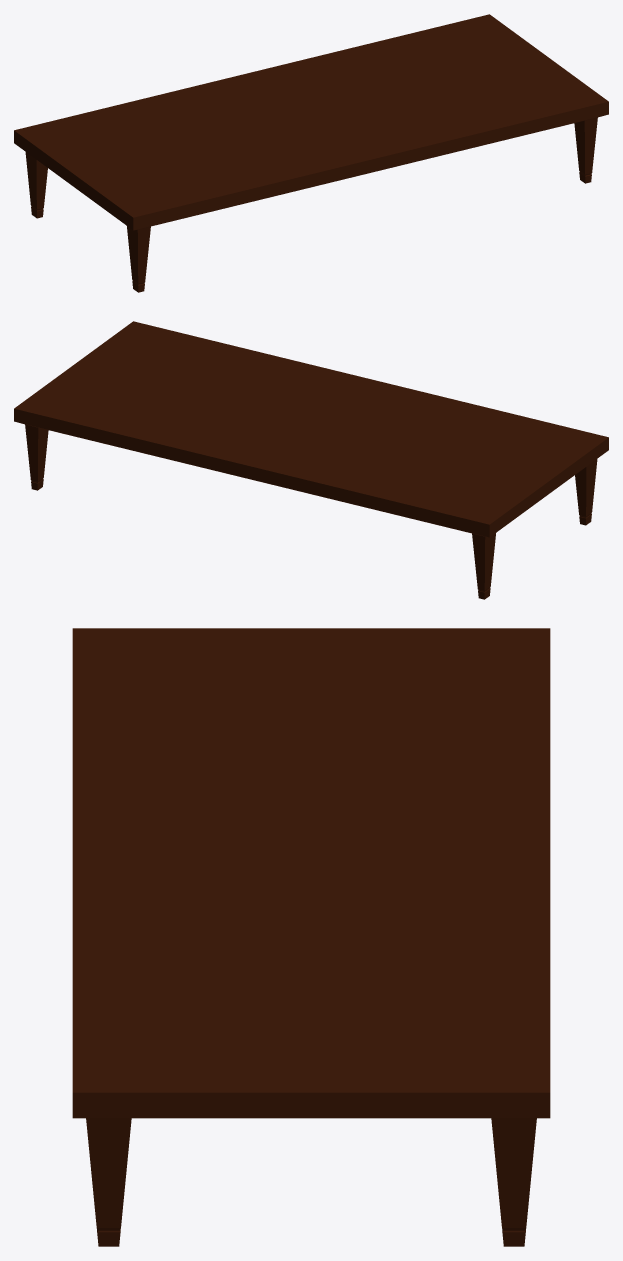
The model's file is Table_Big.fbx.
The picture shows the model from 3 angles, top to bottom: view 1: azimuth 30°, elevation 25°; view 2: azimuth 150°, elevation 25°; view 3: azimuth 270°, elevation 25°; orthographic projection. The views are drawn at different scales.
Parts seen in each view (by area): view 1: Cube.020_Cube.030; view 2: Cube.020_Cube.030; view 3: Cube.020_Cube.030.
Part boxes in pixels (bbox=[...]): Cube.020_Cube.030: bbox=[14, 14, 608, 292]; Cube.020_Cube.030: bbox=[14, 321, 608, 599]; Cube.020_Cube.030: bbox=[72, 628, 550, 1246].
Bounding box in the file's own units: 458 × 75.96 × 199.
